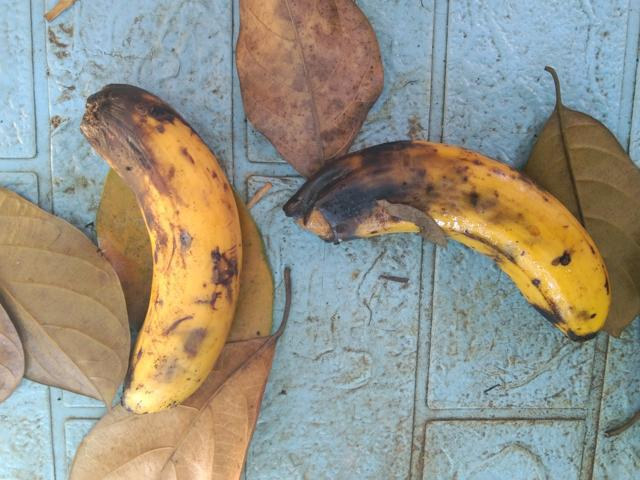overripe: (81, 192, 256, 424), (450, 135, 609, 350)
rotten: (271, 123, 482, 254), (47, 51, 210, 205)
